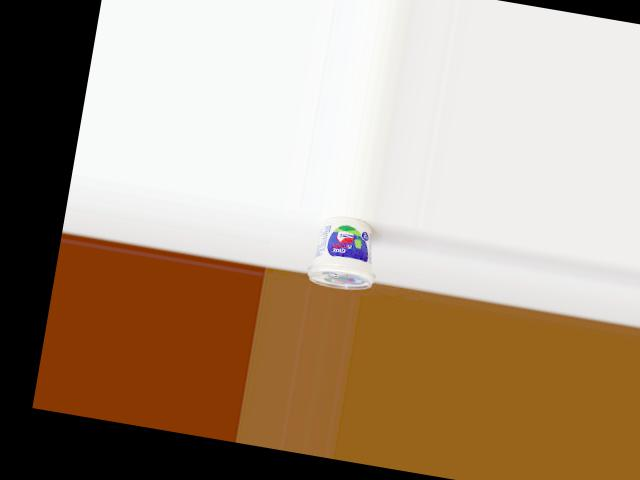cotage: (303, 211, 383, 294)
